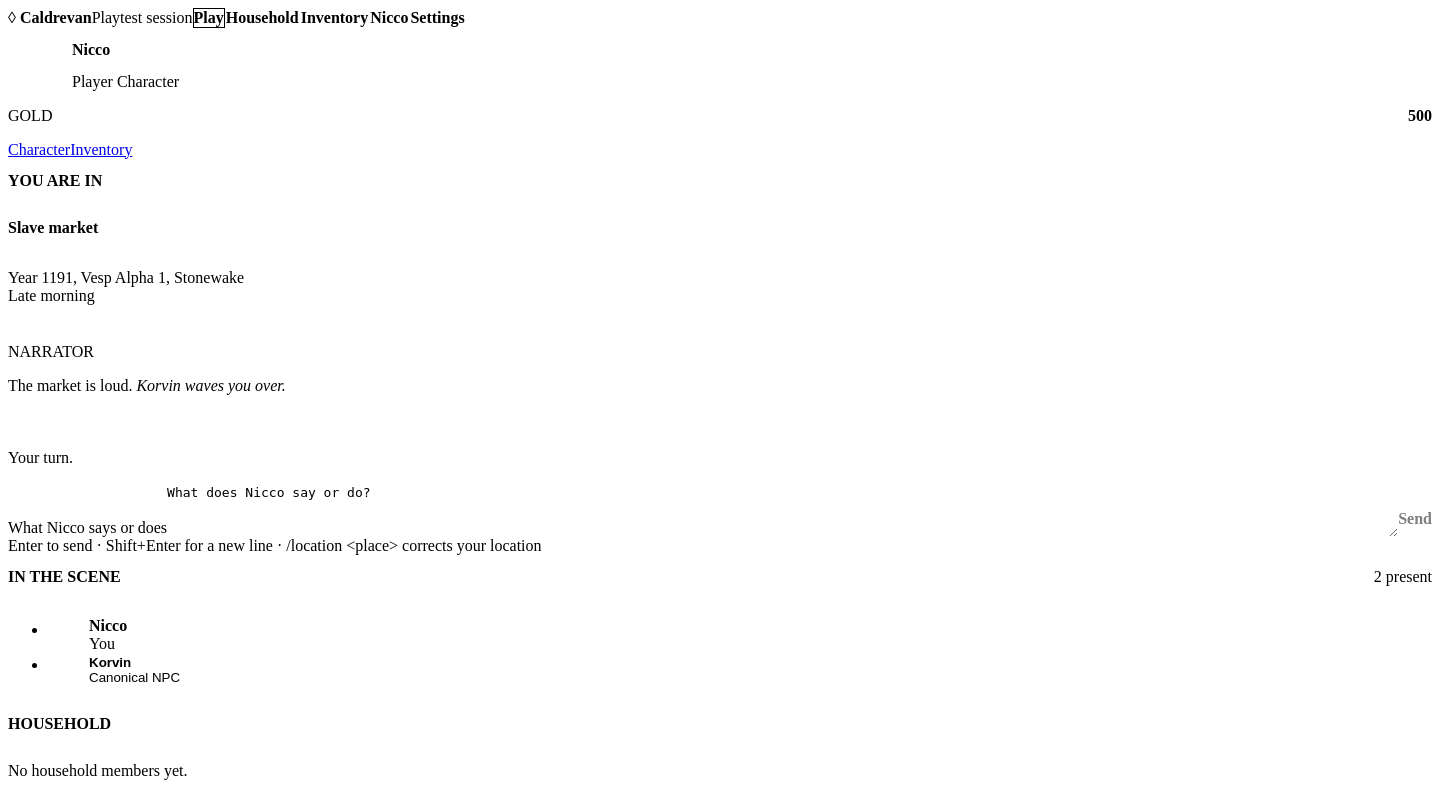
Test: turn progress › an interrupted stream (no final line) is retried with the same turn key, then reports the interruption, keeps the text and refreshes the story
Type "Hello" into the text box labelled "What Nicco says or does".
click(783, 511); type("Hello")  # box [167,485,1398,537]
Then press Enter
Wait 4000 ms
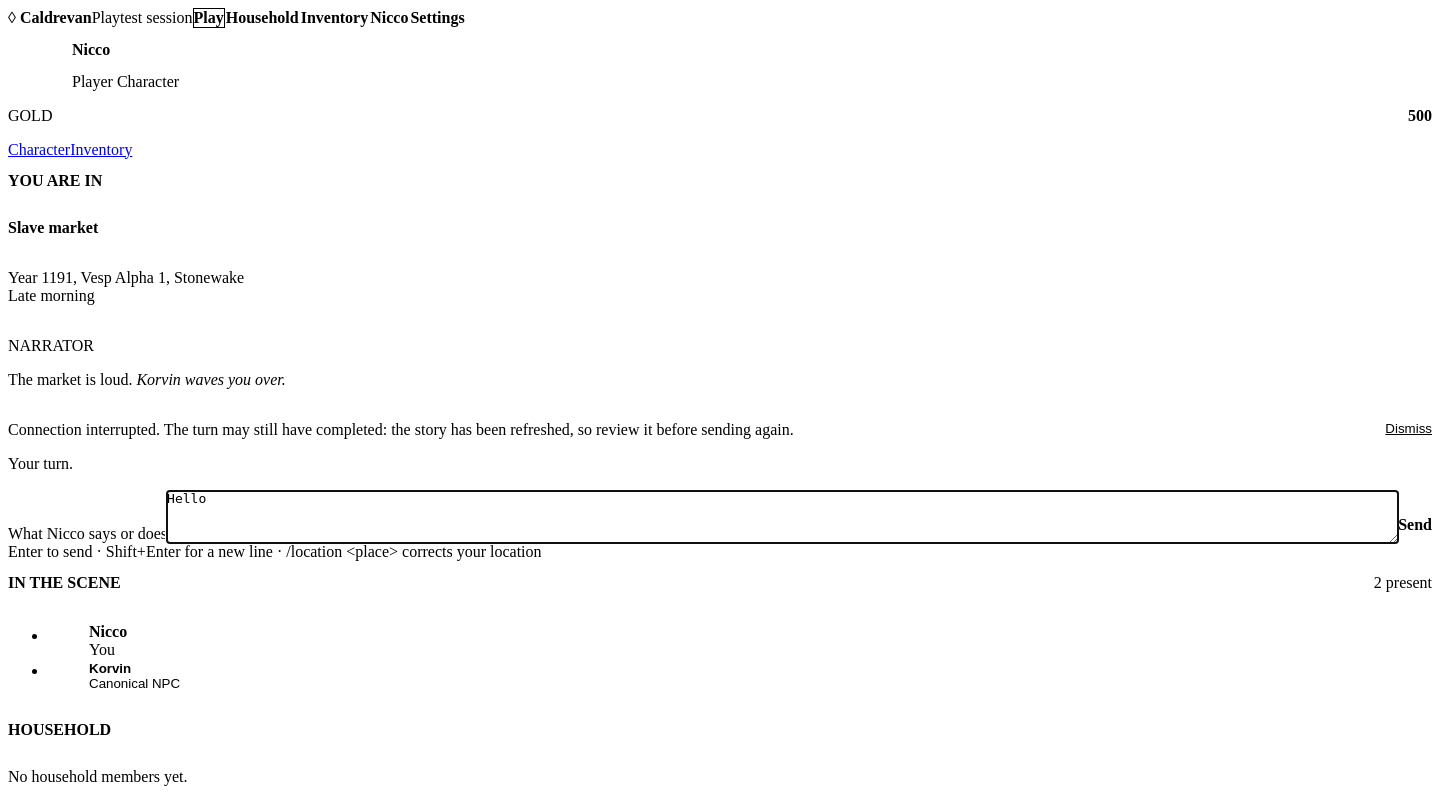
Result: the text "Connection interrupted." is shown at [8,421,794,438]
